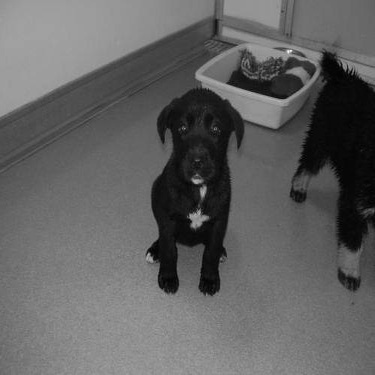dog: (141, 83, 245, 297), (287, 41, 372, 294), (263, 54, 318, 108)
